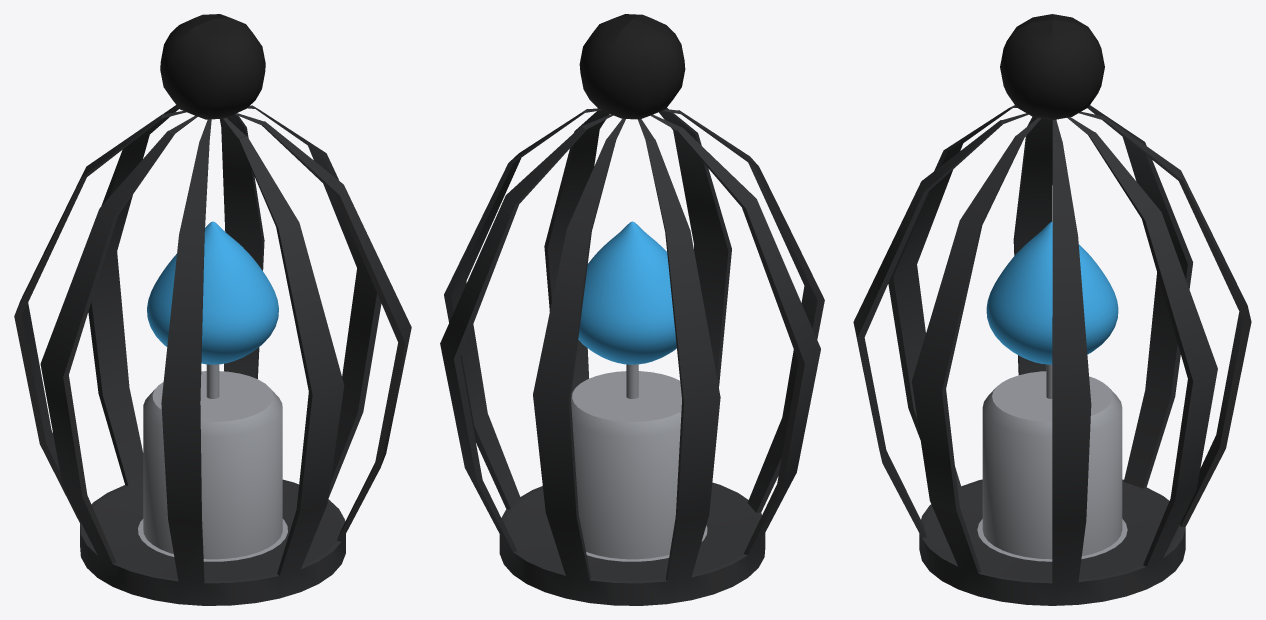
File: candlecage.fbx
The picture shows the model from 3 angles, left to right: view 1: azimuth 30°, elevation 25°; view 2: azimuth 150°, elevation 25°; view 3: azimuth 270°, elevation 25°; orthographic projection.
Visible parts, largest first — view 1: candlecage merged; view 2: candlecage merged; view 3: candlecage merged.
Boxes of the visible parts, x1,y1,x2,y2 form: candlecage merged: [14, 14, 411, 605]; candlecage merged: [440, 14, 824, 605]; candlecage merged: [853, 14, 1251, 605].
Size of the model in its own units: 219 by 322 by 219.
